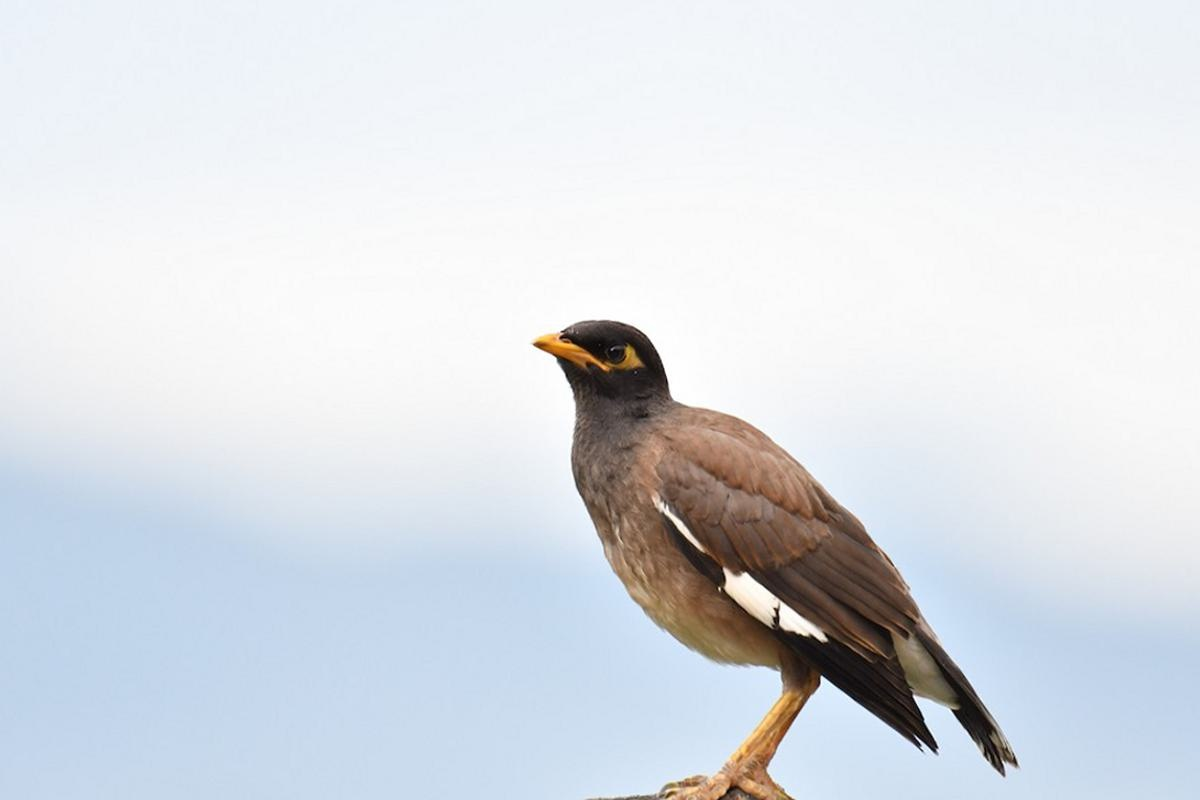myna: (526, 308, 984, 800)
